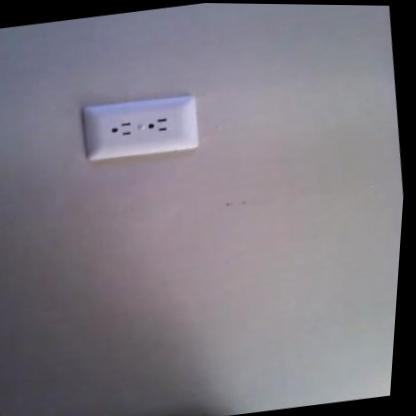OUTLET: (79, 90, 204, 163)
